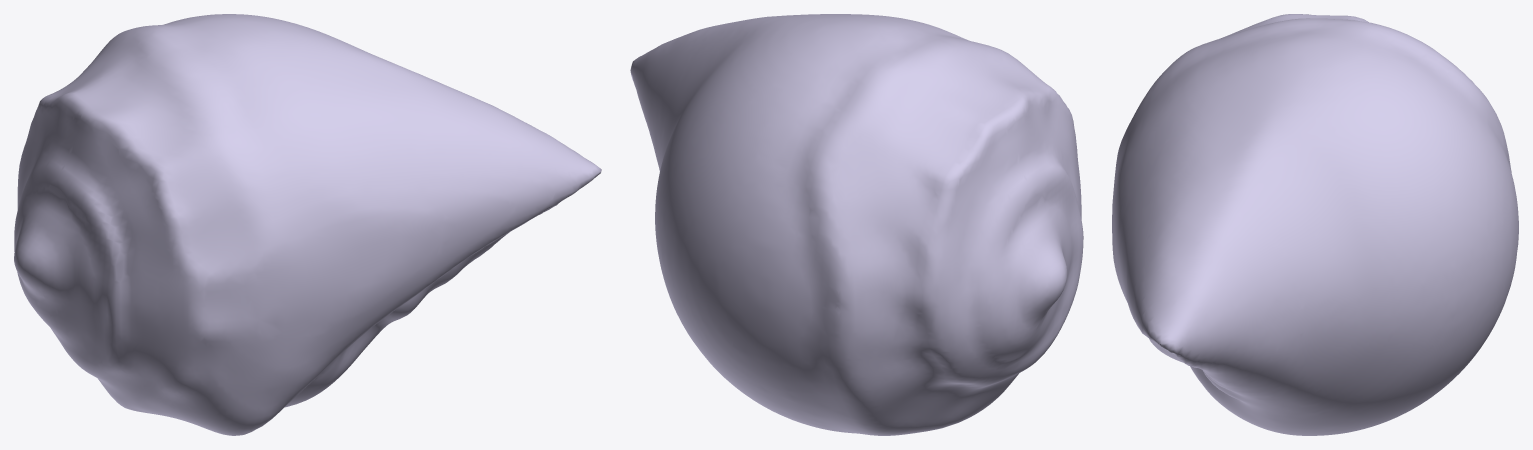
The model's file is ivory.glb.
3 views of the same model, side by side, from view 1: azimuth 30°, elevation 25°; view 2: azimuth 150°, elevation 25°; view 3: azimuth 270°, elevation 25° (orthographic). The views are drawn at different scales.
Visible parts, largest first — view 1: Quad Sphere_0; view 2: Quad Sphere_0; view 3: Quad Sphere_0.
Boxes of the visible parts, x1=… form: Quad Sphere_0: x1=14, y1=14, x2=601, y2=435; Quad Sphere_0: x1=630, y1=14, x2=1083, y2=435; Quad Sphere_0: x1=1112, y1=14, x2=1518, y2=435.
Bounding box in the file's own units: 3.6 × 2.54 × 2.51.
